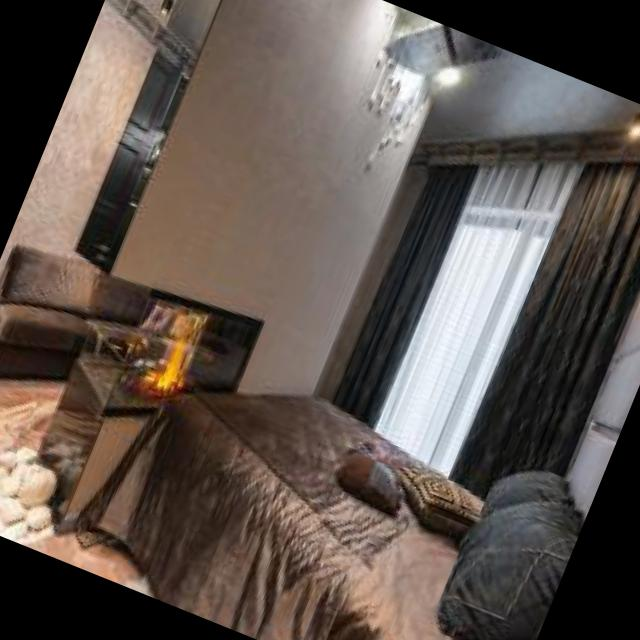fire: (134, 321, 207, 406)
